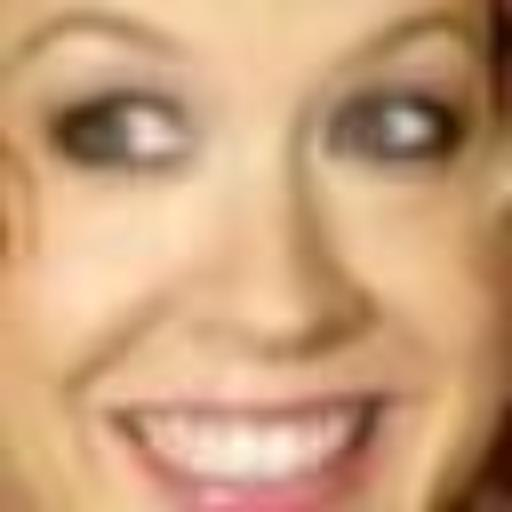left_eye: (329, 85, 469, 170)
left_lip_corner: (363, 382, 400, 429)
right_eye: (47, 80, 187, 179)
right_lip_corner: (94, 396, 140, 436)
